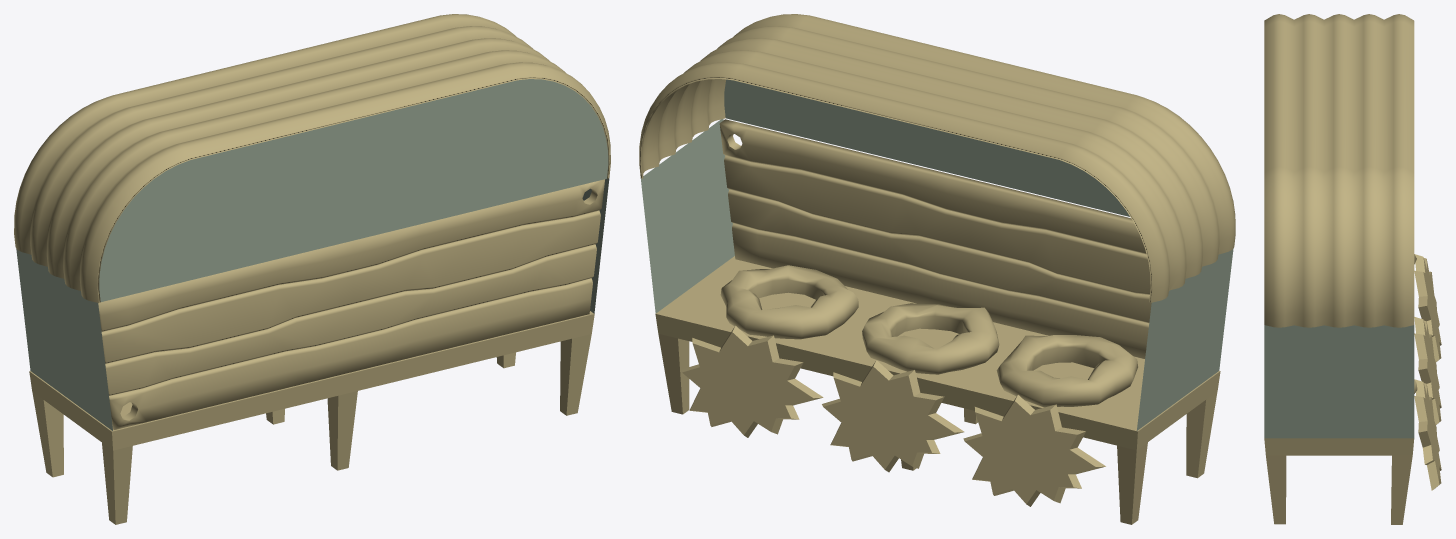
Rendered from Tienda grande.fbx.
3 views of the same model, side by side, from view 1: azimuth 30°, elevation 25°; view 2: azimuth 150°, elevation 25°; view 3: azimuth 270°, elevation 25° (orthographic). The views are drawn at different scales.
Visible parts, largest first — view 1: polySurface12, polySurface17, polySurface24, polySurface21, polySurface22, polySurface19, polySurface20, polySurface23, polySurface11; view 2: polySurface17, polySurface24, polySurface21, polySurface12, polySurface20, polySurface22, polySurface19, polySurface11, polySurface23, polySurface9, polySurface8, polySurface7 (+3 smaller); view 3: polySurface17, polySurface11, polySurface24, polySurface8, polySurface7, polySurface9.
Part boxes in pixels (<box>): polySurface12: <box>99,79,608,301</box>; polySurface17: <box>14,14,610,302</box>; polySurface24: <box>29,311,594,524</box>; polySurface21: <box>101,210,600,363</box>; polySurface22: <box>109,278,592,429</box>; polySurface19: <box>105,244,596,395</box>; polySurface20: <box>98,179,604,331</box>; polySurface23: <box>16,249,112,430</box>; polySurface11: <box>582,178,609,313</box>; polySurface17: <box>639,14,1235,302</box>; polySurface24: <box>655,256,1220,524</box>; polySurface21: <box>724,156,1150,294</box>; polySurface12: <box>724,79,1129,216</box>; polySurface20: <box>719,119,1146,254</box>; polySurface22: <box>732,223,1149,358</box>; polySurface19: <box>728,189,1151,323</box>; polySurface11: <box>640,119,734,313</box>; polySurface23: <box>1136,248,1233,430</box>; polySurface9: <box>963,395,1105,506</box>; polySurface8: <box>681,326,823,437</box>; polySurface7: <box>822,360,964,472</box>; polySurface17: <box>1264,14,1414,327</box>; polySurface11: <box>1264,325,1414,438</box>; polySurface24: <box>1264,438,1414,524</box>; polySurface8: <box>1414,379,1441,490</box>; polySurface7: <box>1414,317,1441,424</box>; polySurface9: <box>1414,254,1441,362</box>.
Size of the model in its own units: 84.06 by 55.23 by 27.02.
